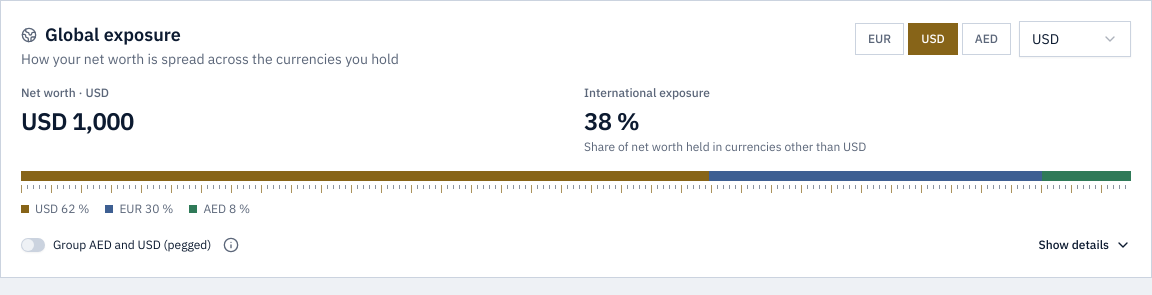
AED / USD peg grouping › changes the international share: with base USD the pegged AED counts as base
The width and height of the screenshot is (1152, 295).
Check: the text with test id "fx-international" reads "38 %", box [584,105,639,137]
Click the switch named "group aed and usd". click: (33, 245)
box: [21,238,45,252]
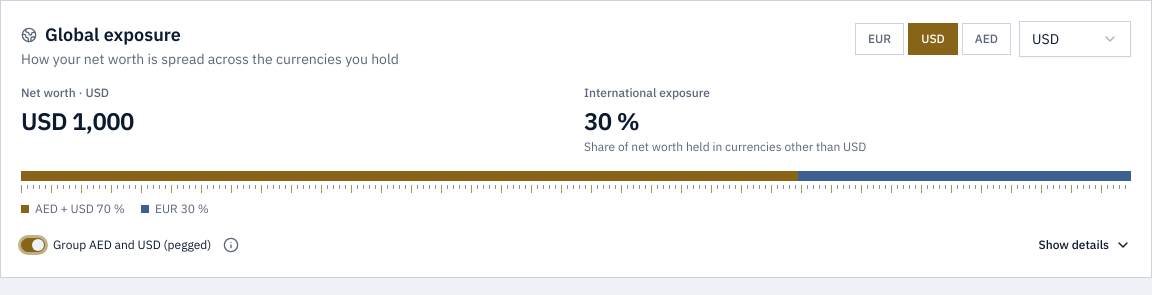
Check: the text with test id "fx-international" reads "30 %", box [584,105,639,137]
